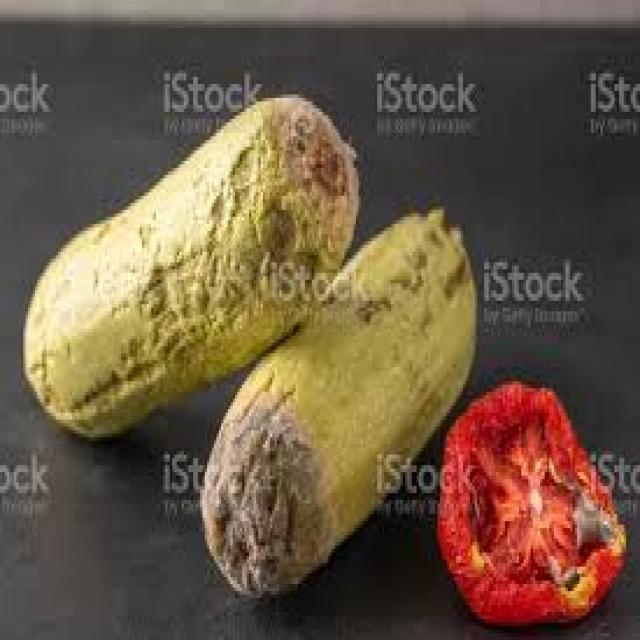organic waste: (19, 91, 356, 437), (195, 203, 475, 598), (433, 378, 624, 626)
